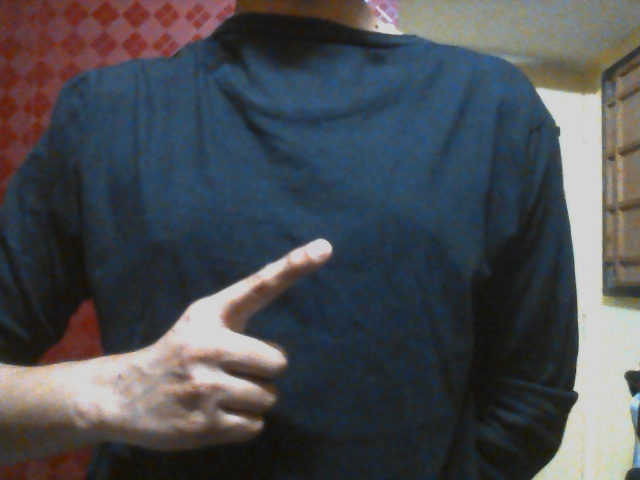I: (134, 237, 333, 455)
